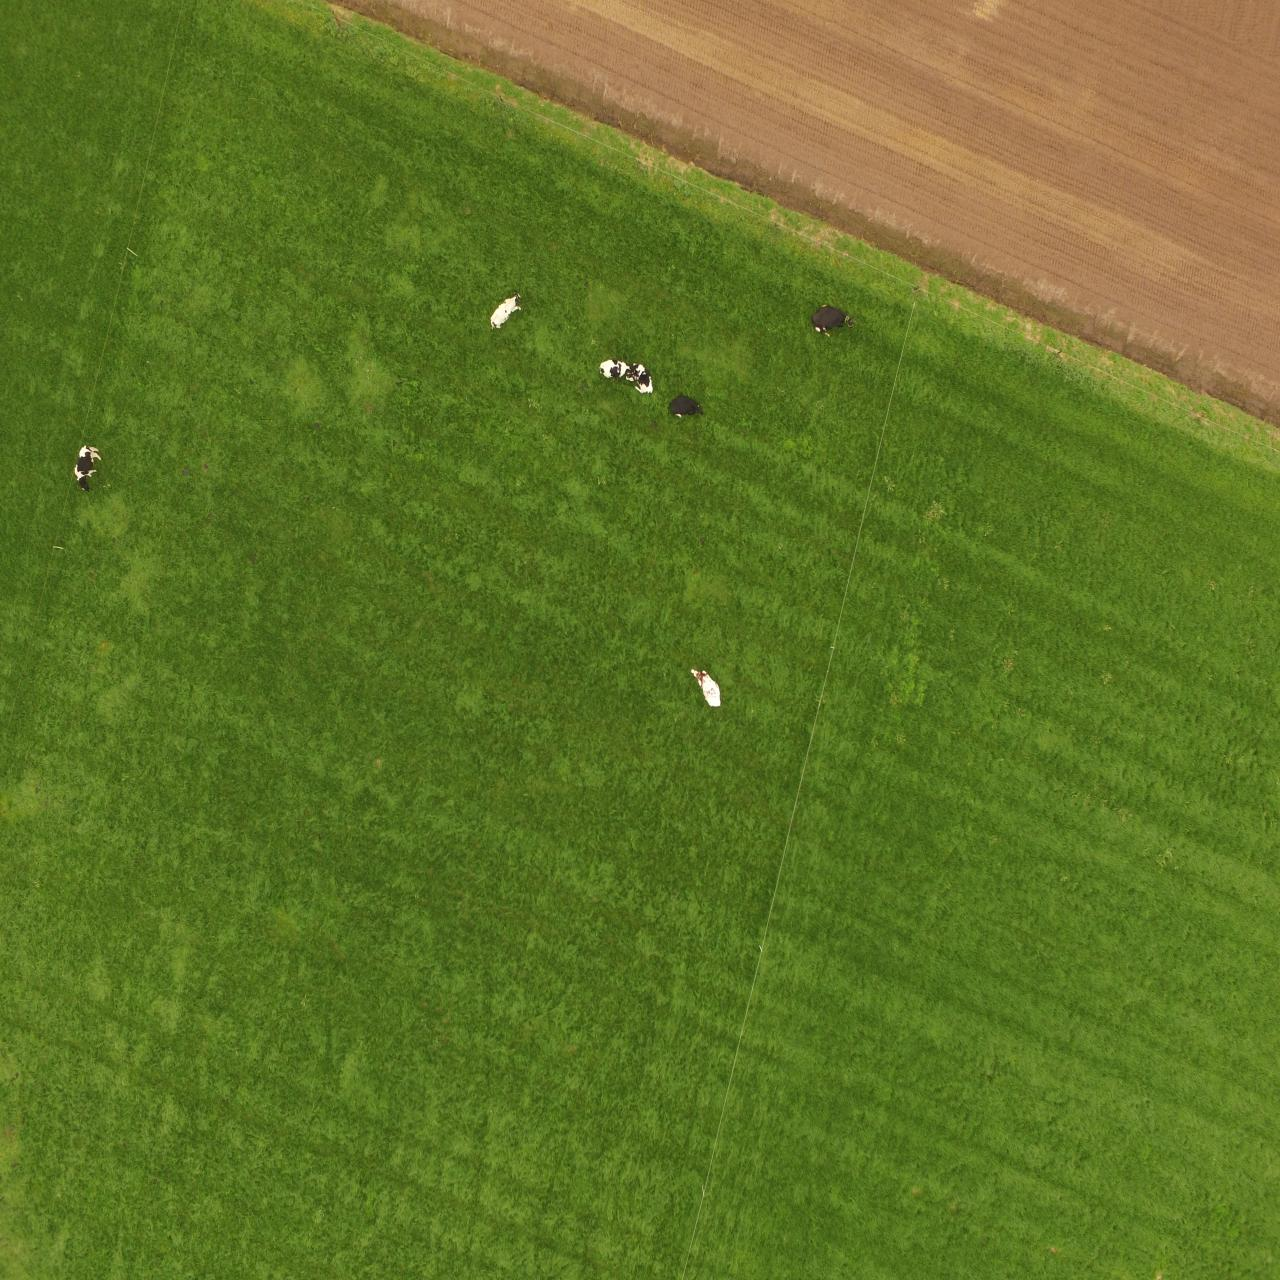cow: (810, 300, 853, 340), (688, 667, 726, 708), (73, 445, 104, 493), (489, 290, 523, 332), (669, 393, 703, 420), (632, 361, 655, 399), (599, 359, 631, 380)
